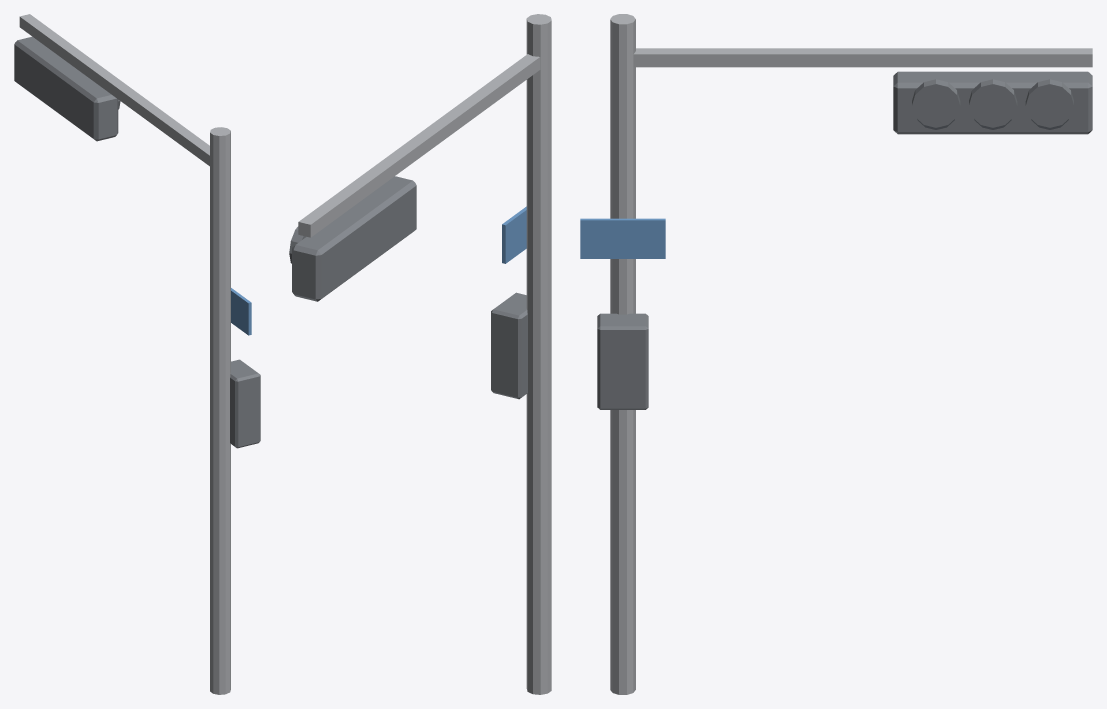
Rendered from traffic_light.glb.
The picture shows the model from 3 angles, left to right: view 1: azimuth 30°, elevation 25°; view 2: azimuth 150°, elevation 25°; view 3: azimuth 270°, elevation 25°; orthographic projection. The views are drawn at different scales.
Parts seen in each view (by area): view 1: pole, head, arm, ped, sign; view 2: pole, head, arm, ped, sign; view 3: pole, arm, head, ped, sign, visor2.2, visor3.0, visor2.6.
Part boxes in pixels (x1,y1,x2,y2): pole: [210, 127, 230, 694]; head: [14, 36, 118, 141]; arm: [19, 14, 209, 166]; ped: [230, 359, 260, 448]; sign: [231, 288, 251, 335]; pole: [526, 14, 551, 694]; head: [292, 176, 416, 301]; arm: [298, 54, 540, 237]; ped: [491, 292, 527, 399]; sign: [502, 206, 526, 263]; pole: [610, 14, 635, 694]; arm: [633, 48, 1092, 67]; head: [893, 71, 1092, 134]; ped: [597, 313, 648, 409]; sign: [580, 218, 665, 258]; visor2.2: [912, 79, 960, 127]; visor3.0: [1025, 79, 1073, 127]; visor2.6: [969, 79, 1017, 127].
Bounding box in the file's own units: 0.42 × 5.2 × 3.6.
